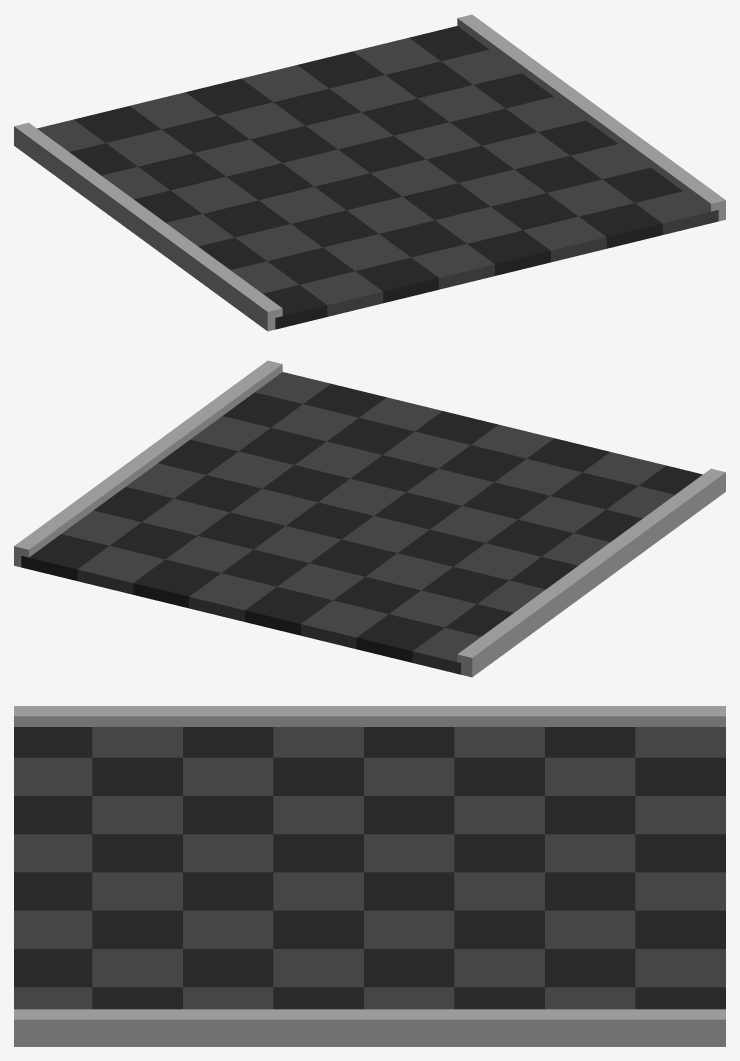
File: Floor_2.obj
The picture shows the model from 3 angles, top to bottom: view 1: azimuth 30°, elevation 25°; view 2: azimuth 150°, elevation 25°; view 3: azimuth 270°, elevation 25°; orthographic projection. The views are drawn at different scales.
Bounding box in the file's own units: 123 × 5 × 118.
